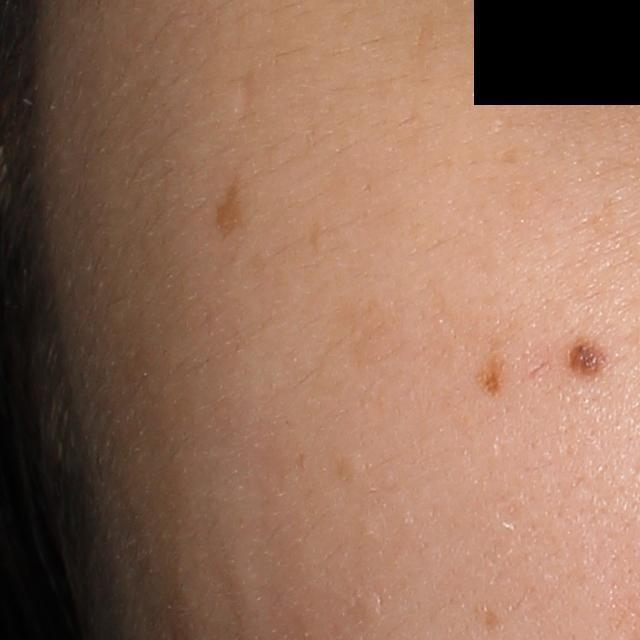atrophic_scar: (231, 68, 260, 134)
melasma: (215, 181, 242, 237)
nevus: (561, 336, 608, 382)
